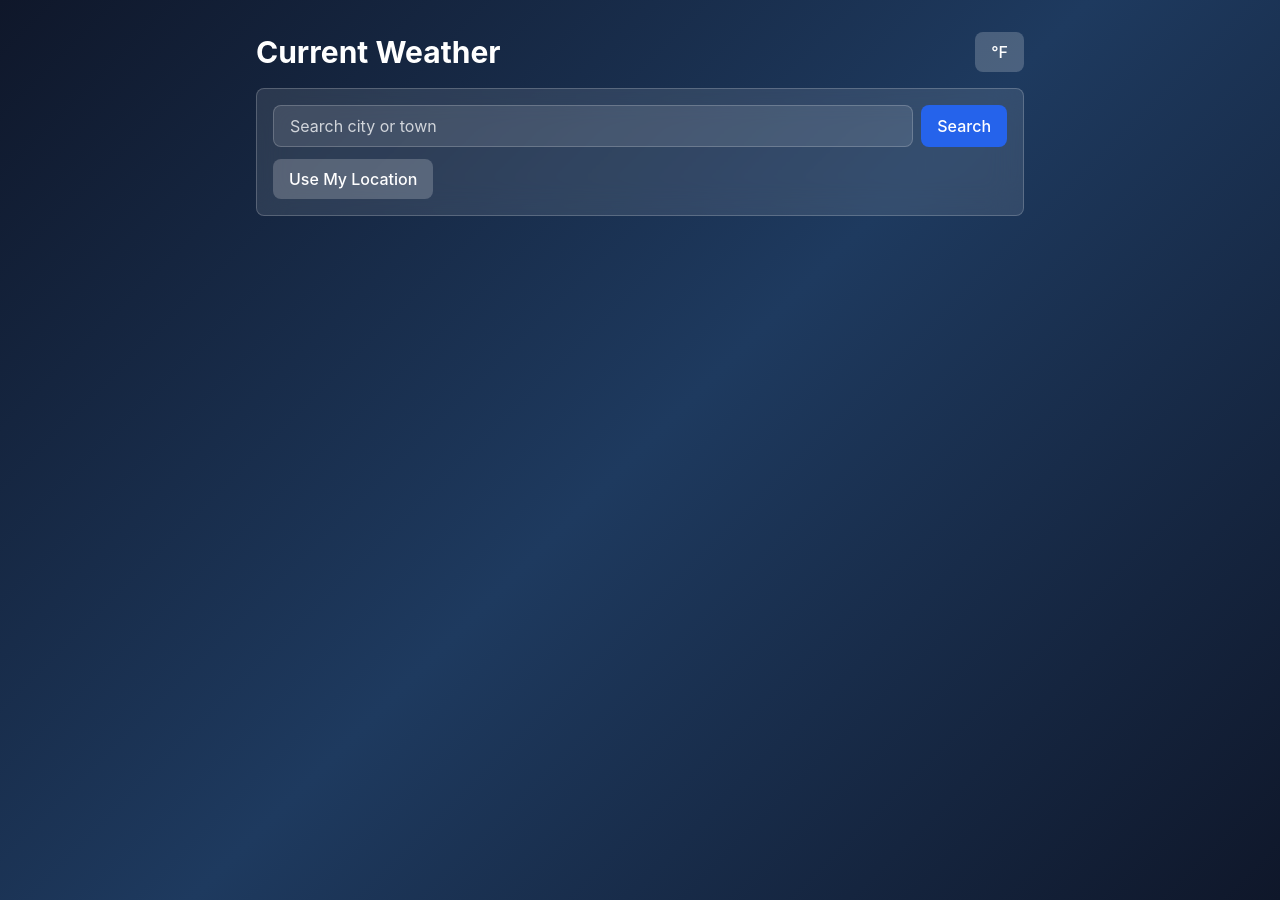
it: App integration › shows service error when geocoding throws
The width and height of the screenshot is (1280, 900).
Type "Chicago" into the field named "location search".
click(593, 126); type("Chicago")  # box [273,105,913,147]
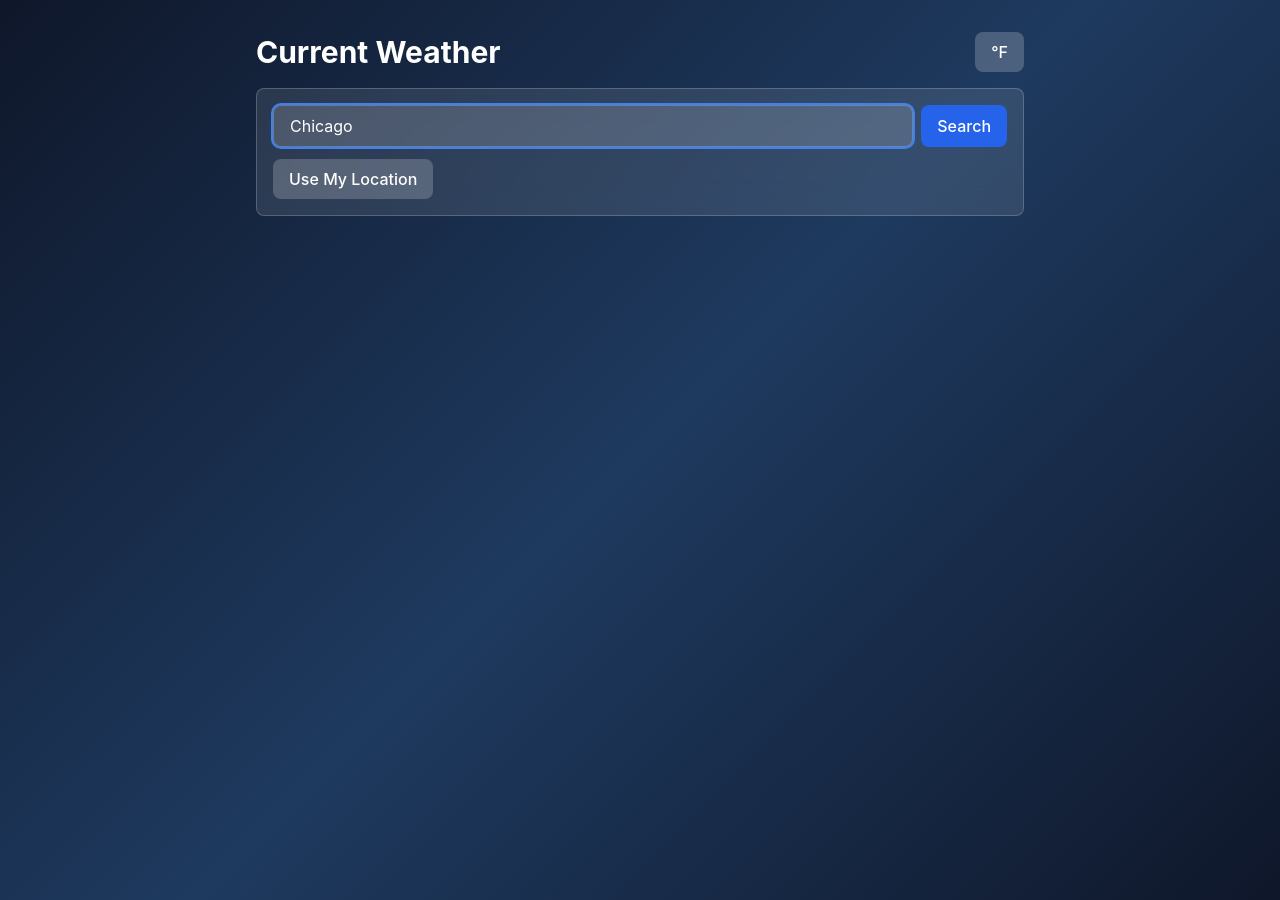
Click the button "Search".
click(964, 126)  # box [921,105,1007,147]
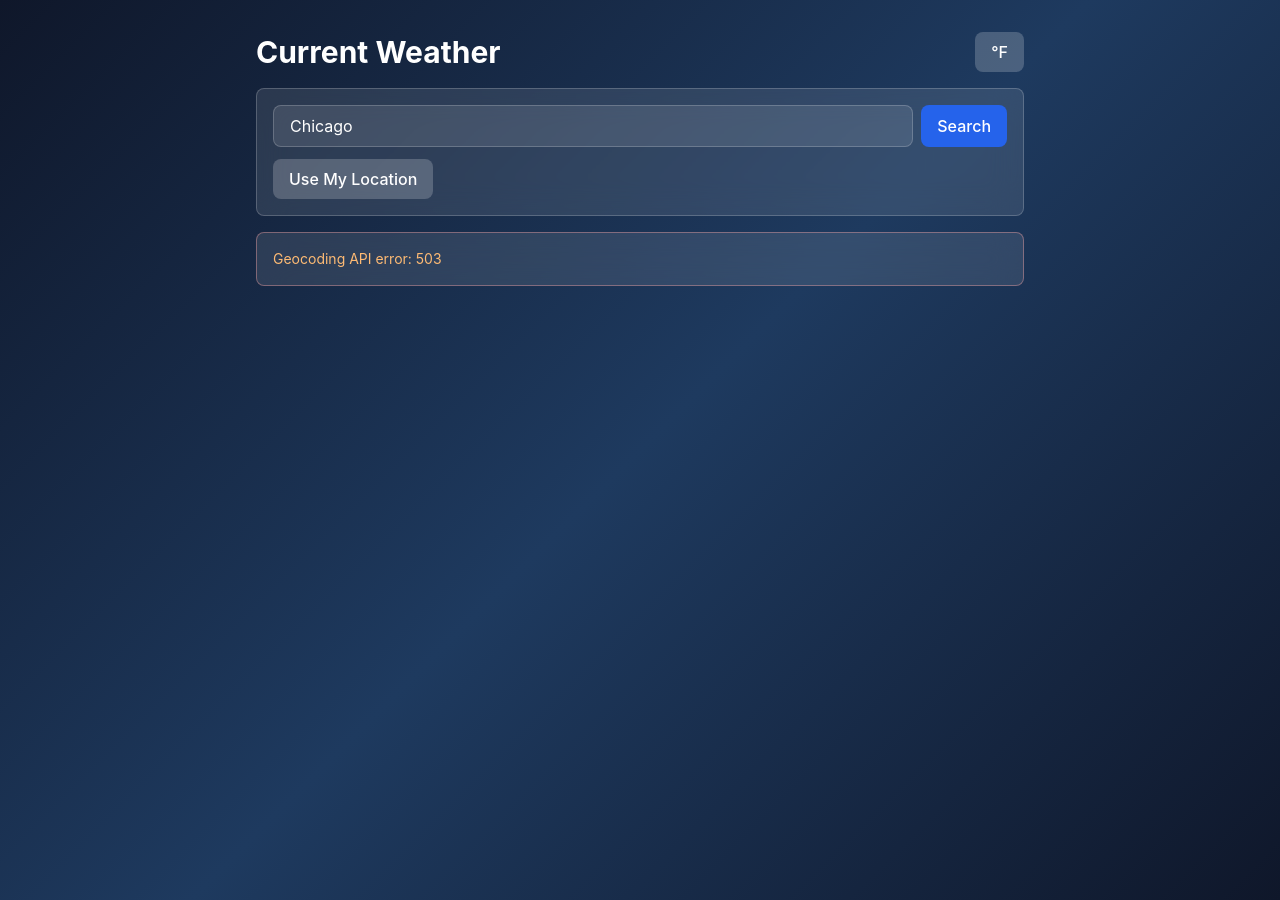
Result: the message shows "503" at [273,250,442,267]
